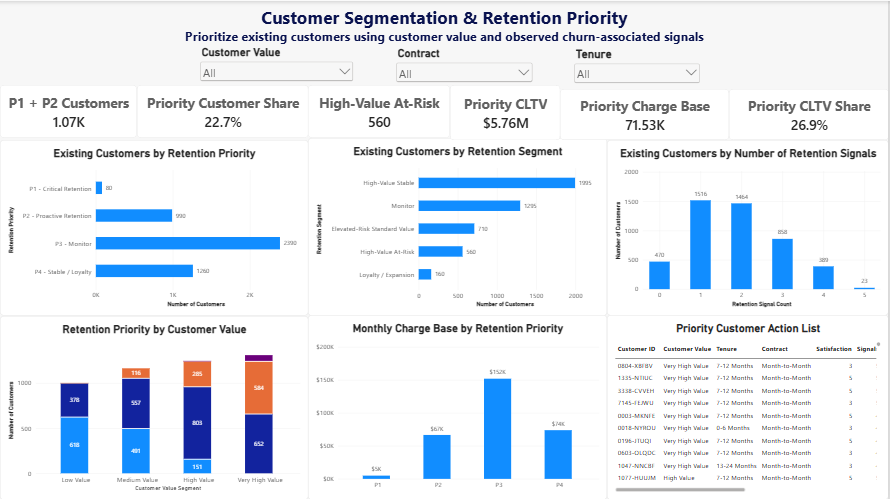

The dashboard page shown, as its layout file describes it:
{"tool":"powerbi","page":{"name":"Retention Priority","canvas":[1920,1080],"ordinal":2},"visuals":[{"type":"cardVisual","fields":{"Data":["_Measures.Priority Retention Customers"]},"box":[0,180.8,295.4,114.6],"z":0},{"type":"cardVisual","fields":{"Data":["_Measures.Priority Customer Share %"]},"box":[295.4,180.8,370.3,114.6],"z":1000},{"type":"textbox","box":[0,8.8,1920,99.2],"z":2000},{"type":"slicer","fields":{"Values":["Customer Detail.tenure_band"]},"box":[1235.5,99.4,280.8,82.2],"z":3000},{"type":"slicer","fields":{"Values":["Customer Detail.customer_value_segment"]},"box":[427.7,97.2,340.2,79.9],"z":4000},{"type":"slicer","fields":{"Values":["Customer Detail.contract"]},"box":[851,99.4,303.6,77.6],"z":5000},{"type":"cardVisual","fields":{"Data":["_Measures.High-Value At-Risk Customers"]},"box":[665.7,180.8,306.4,114.6],"z":6000},{"type":"clusteredBarChart","title":"Existing Customers by Retention Priority","fields":{"Category":["Customer Detail.retention_priority"],"Y":["_Measures.Total Customers"]},"box":[0,299.8,665.7,379.2],"z":7000},{"type":"clusteredBarChart","title":"Existing Customers by Retention Segment","fields":{"Category":["Customer Detail.retention_segment"],"Y":["_Measures.Total Customers"]},"box":[665.7,295.4,645.9,383.6],"z":8000},{"type":"clusteredColumnChart","title":"Existing Customers by Number of Retention Signals","fields":{"Category":["Customer Detail.retention_signal_count"],"Y":["_Measures.Total Customers"]},"box":[1311.6,299.8,608.4,379.2],"z":9000},{"type":"columnChart","title":"Retention Priority by Customer Value","fields":{"Category":["Customer Detail.customer_value_segment"],"Series":["Customer Detail.retention_priority_short"],"Y":["_Measures.Total Customers"]},"box":[0,681.1,665.7,396.8],"z":10000},{"type":"clusteredColumnChart","title":"Monthly Charge Base by Retention Priority","fields":{"Category":["Customer Detail.retention_priority_short"],"Y":["_Measures.Stayed Monthly Charge Base"]},"box":[665.7,678.9,645.9,399],"z":11000},{"type":"tableEx","title":"Priority Customer Action List","fields":{"Values":["Customer Detail.customer_id","Customer Detail.customer_value_segment","Customer Detail.tenure_band","Customer Detail.contract","Customer Detail.satisfaction_score","Customer Detail.retention_signal_count","Customer Detail.priority_score","Customer Detail.cltv","Customer Detail.retention_priority_short","Customer Detail.retention_segment","Customer Detail.suggested_action"]},"box":[1311.6,678.9,608.4,399],"z":12000},{"type":"cardVisual","fields":{"Data":["_Measures.Priority CLTV"]},"box":[972.1,180.8,238.1,119],"z":12001},{"type":"cardVisual","fields":{"Data":["_Measures.Priority Monthly Charge Base"]},"box":[1210.2,189.6,365.9,110.2],"z":12002},{"type":"cardVisual","fields":{"Data":["_Measures.Priority CLTV Share %"]},"box":[1574.6,190.1,345.6,110.2],"z":12003}]}

Visuals, with their boxes in screenshot pixels (x1, y1, x2, y2), scaled from the page's 1920x1080 canvas onto the 890x499 screenshot:
cardVisual - _Measures.Priority Retention Customers: 0, 84, 137, 136
cardVisual - _Measures.Priority Customer Share %: 137, 84, 309, 136
textbox: 0, 4, 889, 50
slicer - Customer Detail.tenure_band: 573, 46, 703, 84
slicer - Customer Detail.customer_value_segment: 198, 45, 356, 82
slicer - Customer Detail.contract: 394, 46, 535, 82
cardVisual - _Measures.High-Value At-Risk Customers: 309, 84, 451, 136
"Existing Customers by Retention Priority" clusteredBarChart: 0, 139, 309, 314
"Existing Customers by Retention Segment" clusteredBarChart: 309, 136, 608, 314
"Existing Customers by Number of Retention Signals" clusteredColumnChart: 608, 139, 889, 314
"Retention Priority by Customer Value" columnChart: 0, 315, 309, 498
"Monthly Charge Base by Retention Priority" clusteredColumnChart: 309, 314, 608, 498
"Priority Customer Action List" tableEx: 608, 314, 889, 498
cardVisual - _Measures.Priority CLTV: 451, 84, 561, 139
cardVisual - _Measures.Priority Monthly Charge Base: 561, 88, 731, 139
cardVisual - _Measures.Priority CLTV Share %: 730, 88, 889, 139
